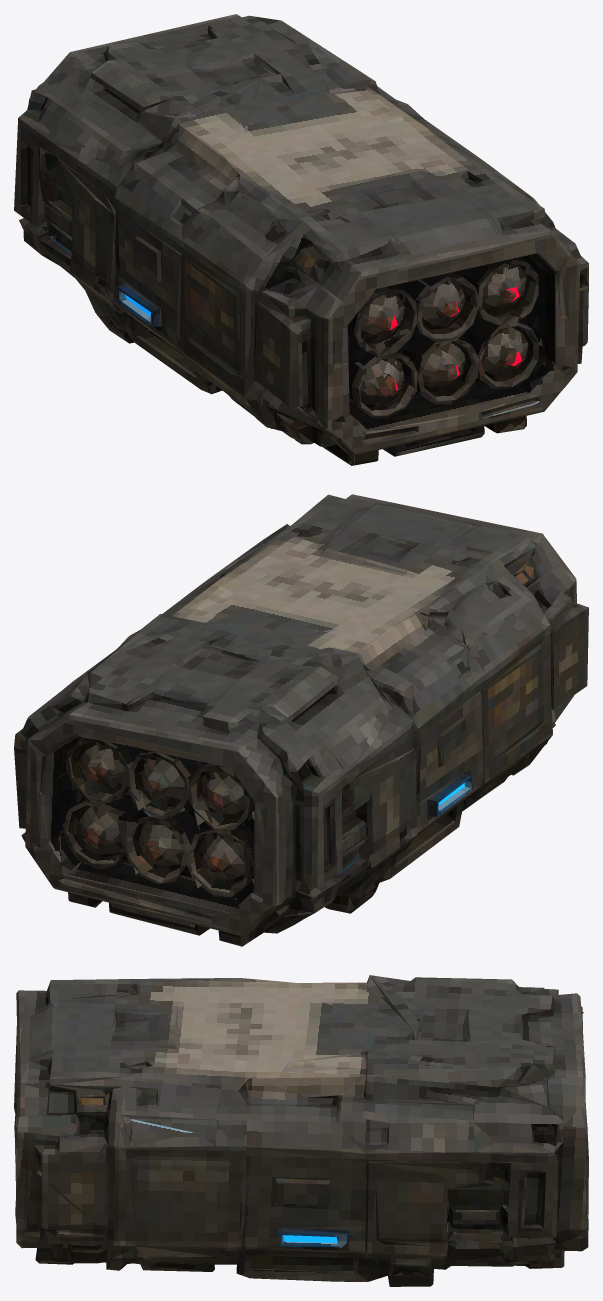
The model's file is drone_rocket_module_v001.glb.
The picture shows the model from 3 angles, top to bottom: view 1: azimuth 30°, elevation 25°; view 2: azimuth 150°, elevation 25°; view 3: azimuth 270°, elevation 25°; orthographic projection. The views are drawn at different scales.
Parts seen in each view (by area): view 1: Missile_Launcher, Missile_Projectile_3, Missile_Projectile_1; view 2: Missile_Launcher; view 3: Missile_Launcher.
Part boxes in pixels (x1=…): Missile_Launcher: x1=14, y1=14, x2=588, y2=465; Missile_Projectile_3: x1=486, y1=263, x2=526, y2=311; Missile_Projectile_1: x1=375, y1=292, x2=404, y2=343; Missile_Launcher: x1=14, y1=494, x2=588, y2=946; Missile_Launcher: x1=14, y1=975, x2=588, y2=1286.
Size of the model in its own units: 0.537 by 0.3846 by 0.89.
Materials: 3 (1 with a texture image).
